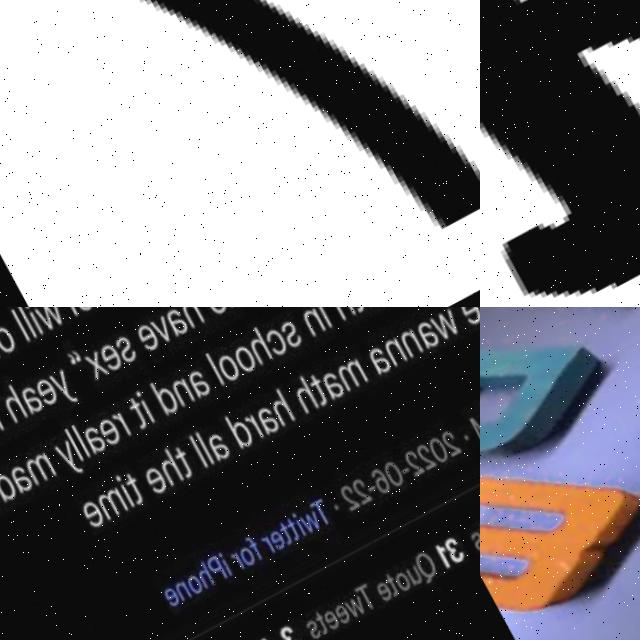2: (365, 469, 388, 499)
7: (0, 0, 480, 307)
A: (480, 0, 640, 307), (410, 322, 438, 355), (315, 371, 343, 404), (362, 347, 389, 380), (14, 384, 41, 416), (77, 425, 104, 457), (3, 464, 30, 496), (251, 407, 278, 439), (201, 432, 228, 464), (183, 370, 209, 401), (161, 308, 186, 339)
C: (260, 329, 287, 360)
D: (480, 307, 626, 508), (145, 377, 177, 419), (220, 413, 251, 452), (0, 463, 13, 502)
E: (29, 375, 58, 410), (131, 323, 159, 356), (94, 342, 122, 375), (92, 417, 119, 449), (75, 500, 102, 532), (138, 465, 164, 497), (453, 307, 480, 332), (368, 581, 391, 608), (325, 603, 348, 630), (315, 609, 337, 636), (155, 585, 176, 611), (262, 531, 283, 555)
F: (239, 536, 258, 564)
H: (241, 330, 270, 369), (286, 379, 315, 418), (150, 449, 179, 488), (262, 391, 291, 428), (0, 384, 25, 424), (171, 307, 201, 329), (188, 562, 210, 591), (322, 307, 352, 323)
I: (132, 392, 151, 425), (111, 476, 130, 508), (21, 307, 40, 335), (309, 307, 330, 331), (286, 513, 302, 540), (212, 554, 227, 578)
L: (190, 431, 212, 468), (201, 352, 222, 389), (66, 426, 86, 460), (14, 307, 34, 340), (8, 309, 28, 342), (61, 430, 80, 462), (185, 437, 204, 469), (54, 307, 75, 317)
M: (331, 360, 366, 395), (19, 452, 53, 487), (90, 488, 123, 522), (463, 413, 480, 447)
N: (377, 339, 405, 372), (394, 332, 422, 364), (166, 379, 191, 410), (298, 310, 323, 340), (168, 581, 187, 604)
O: (211, 354, 239, 386), (229, 346, 254, 376), (231, 547, 252, 572), (179, 574, 200, 599), (0, 324, 15, 356), (387, 573, 407, 596), (198, 307, 226, 319), (65, 307, 94, 316)
P: (199, 556, 224, 586)
Q: (406, 553, 436, 589)
R: (239, 415, 260, 444), (109, 413, 128, 439), (254, 536, 271, 557), (224, 553, 240, 575)
S: (109, 335, 135, 367), (276, 322, 301, 352), (463, 532, 480, 557), (297, 620, 318, 640)
T: (302, 375, 328, 411), (118, 473, 142, 508), (166, 448, 191, 481), (347, 585, 372, 616), (123, 399, 146, 432), (304, 500, 329, 530), (377, 576, 397, 602), (306, 613, 325, 640), (279, 520, 297, 544), (273, 524, 290, 548), (470, 525, 480, 552), (341, 307, 365, 318)
U: (400, 569, 417, 589)
V: (145, 316, 172, 347)
W: (480, 409, 640, 634), (425, 313, 458, 345), (31, 307, 64, 334), (338, 598, 362, 622), (294, 512, 317, 536)
X: (80, 351, 105, 381)
Y: (49, 440, 80, 479), (45, 369, 74, 408)
